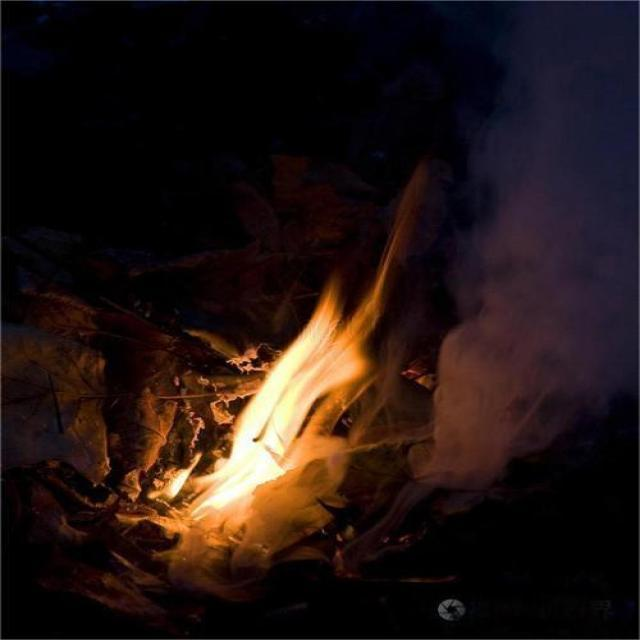Fire: (169, 274, 378, 518)
Smoke: (434, 10, 640, 492)
